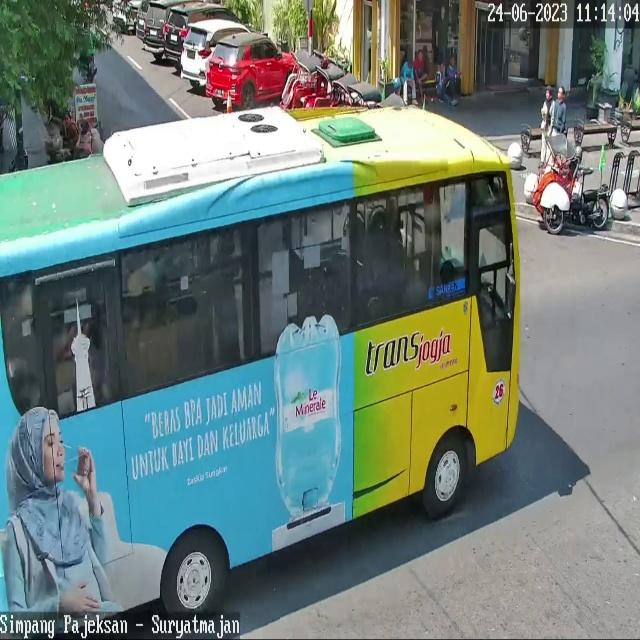bus: (82, 51, 98, 84)
car: (0, 105, 519, 640)
motorcycle: (206, 33, 300, 108), (163, 4, 246, 64), (181, 21, 252, 85), (143, 0, 169, 53)
